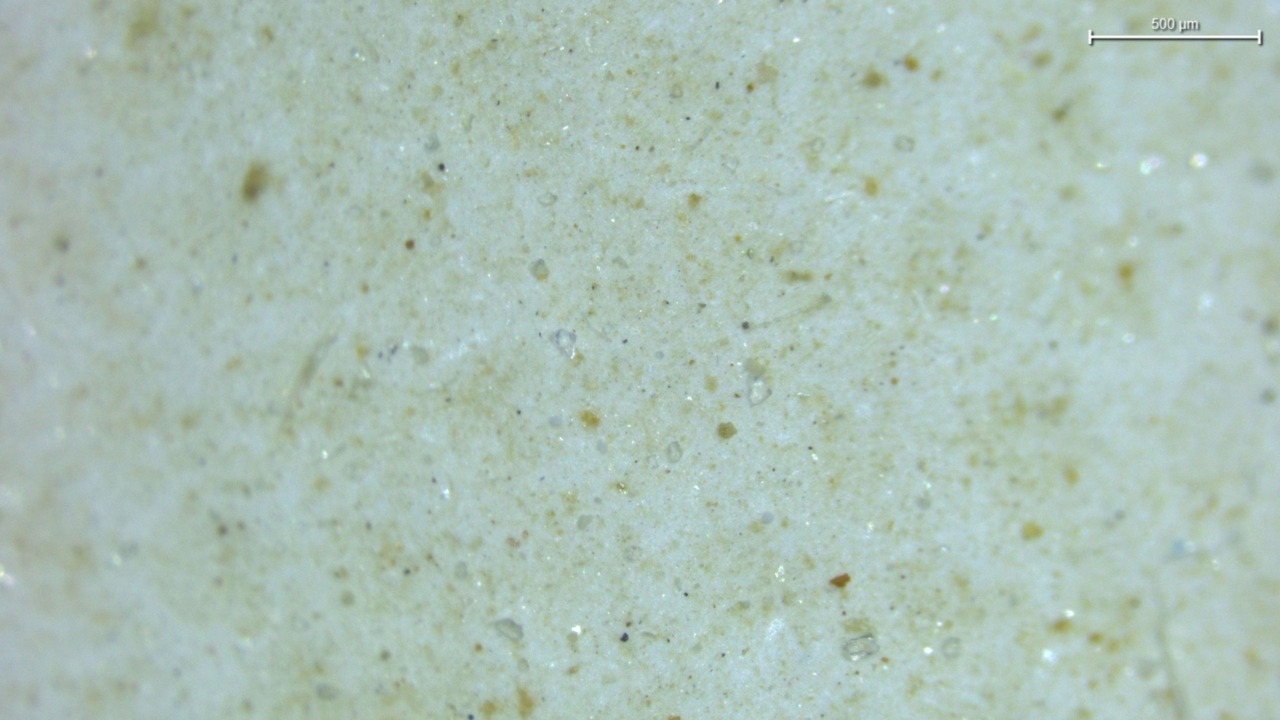microplastic_fragment: (493, 618, 523, 642), (750, 379, 770, 404)
